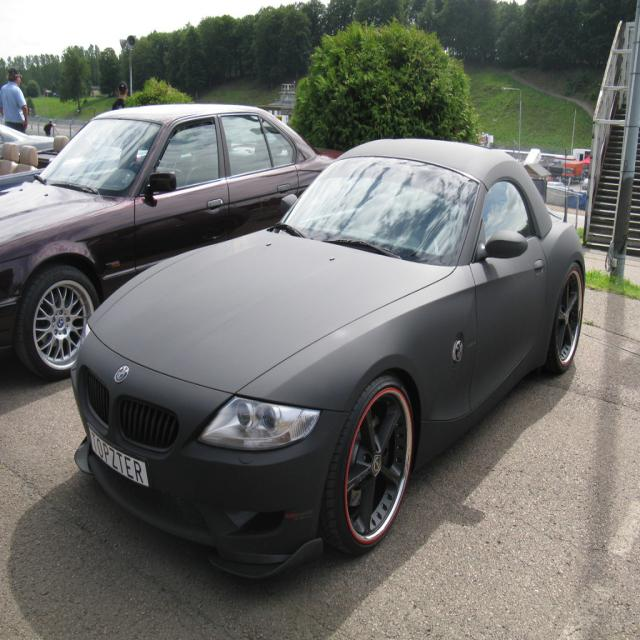car: (51, 134, 596, 574)
